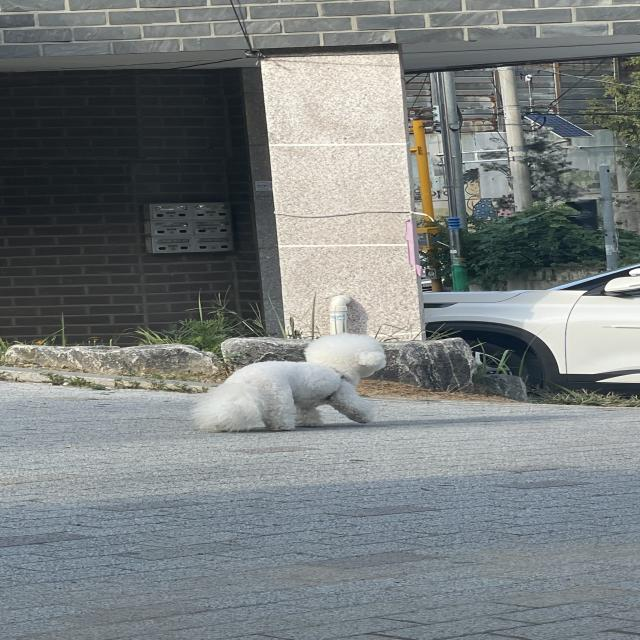Dog: (192, 333, 387, 432)
